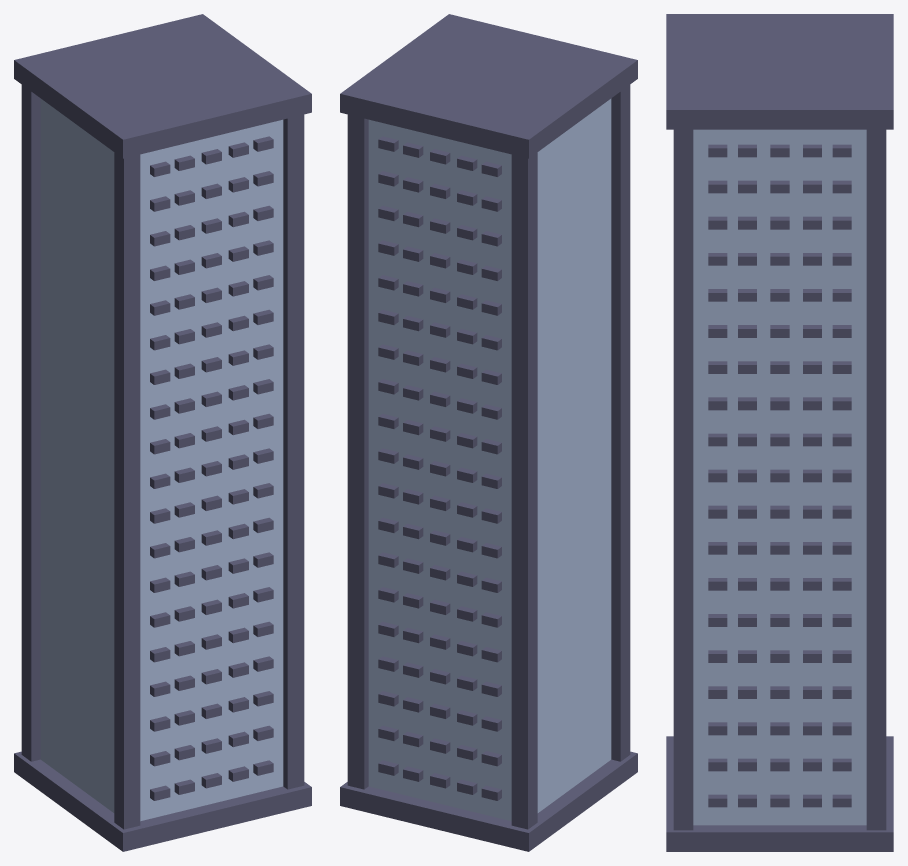
The model's file is H_gebouw3.fbx.
3 views of the same model, side by side, from view 1: azimuth 30°, elevation 25°; view 2: azimuth 150°, elevation 25°; view 3: azimuth 270°, elevation 25° (orthographic). The views are drawn at different scales.
Parts seen in each view (by area): view 1: pCube1, pCube11, windows_left; view 2: pCube1, pCube11, windows_right; view 3: pCube1, pCube11, windows_front.
Part boxes in pixels (bbox=[...]): pCube1: bbox=[40, 98, 283, 821]; pCube11: bbox=[14, 14, 311, 851]; windows_left: bbox=[150, 136, 273, 800]; pCube1: bbox=[368, 98, 611, 821]; pCube11: bbox=[340, 14, 637, 851]; windows_right: bbox=[378, 136, 501, 800]; pCube1: bbox=[693, 129, 866, 825]; pCube11: bbox=[666, 14, 893, 851]; windows_front: bbox=[708, 144, 851, 807].
Size of the model in its own units: 5.7 by 20.54 by 5.7.
